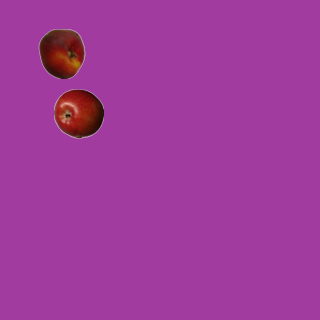Apple Braeburn: (53, 88, 103, 138)
Nectarine Flat: (36, 28, 86, 78)
